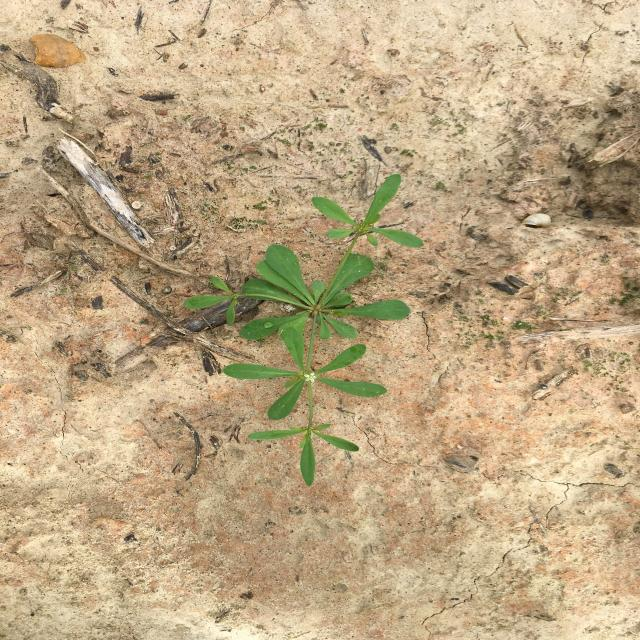Carpetweed: (182, 173, 424, 487)
